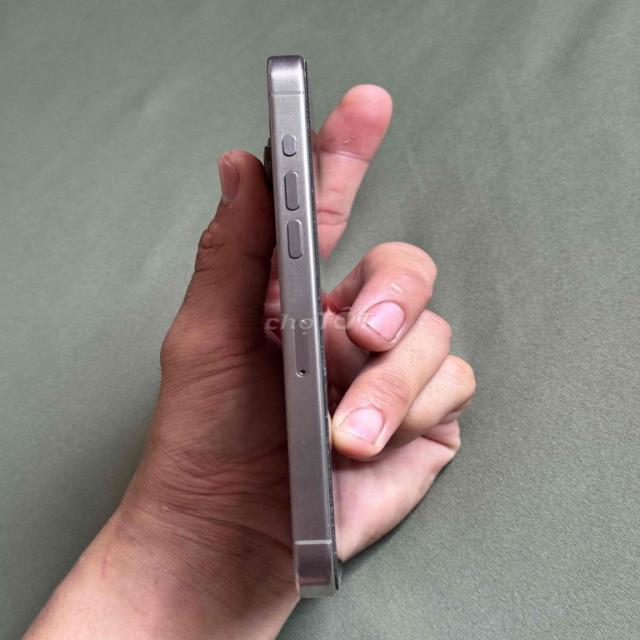gen_15: (224, 45, 386, 599)
